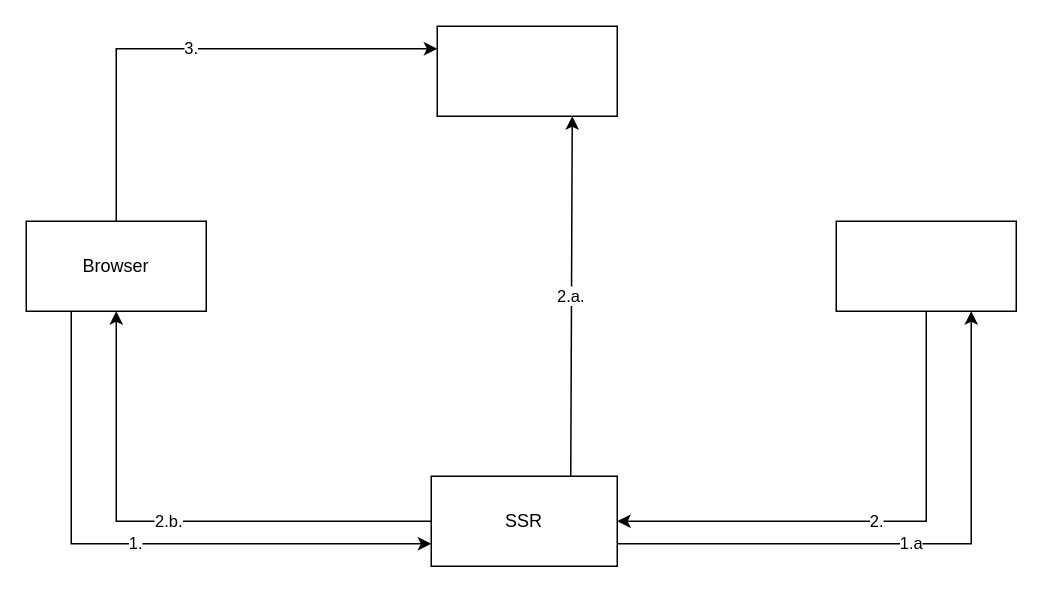
The diagram is 1043 pixels wide and 593 high, and some of its shapes have lost their labels. The box of each missing label's shape, as (x1, y1, x2, y2) in pixels:
Auth: (835, 220, 1016, 311)
Canister: (436, 25, 617, 116)
